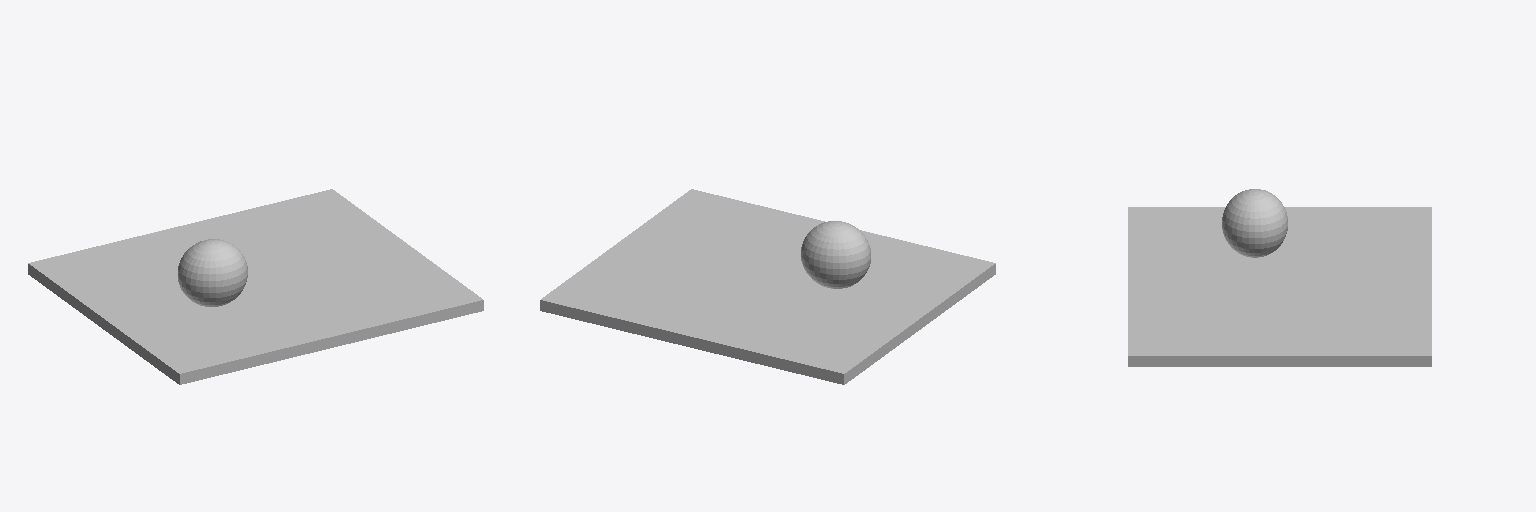
The model's file is ground.obj.
3 renders of one model, left to right at view 1: azimuth 30°, elevation 25°; view 2: azimuth 150°, elevation 25°; view 3: azimuth 270°, elevation 25°, orthographic.
Parts seen in each view (by area): view 1: Cube, 球体; view 2: Cube, 球体; view 3: Cube, 球体.
Part boxes in pixels (x1,y1,x2,y2): Cube: (28,189,483,384); 球体: (178,239,247,306); Cube: (540,189,995,384); 球体: (801,221,870,288); Cube: (1128,207,1431,366); 球体: (1222,189,1287,257).
Size of the model in its own units: 57.35 by 13.19 by 49.45.